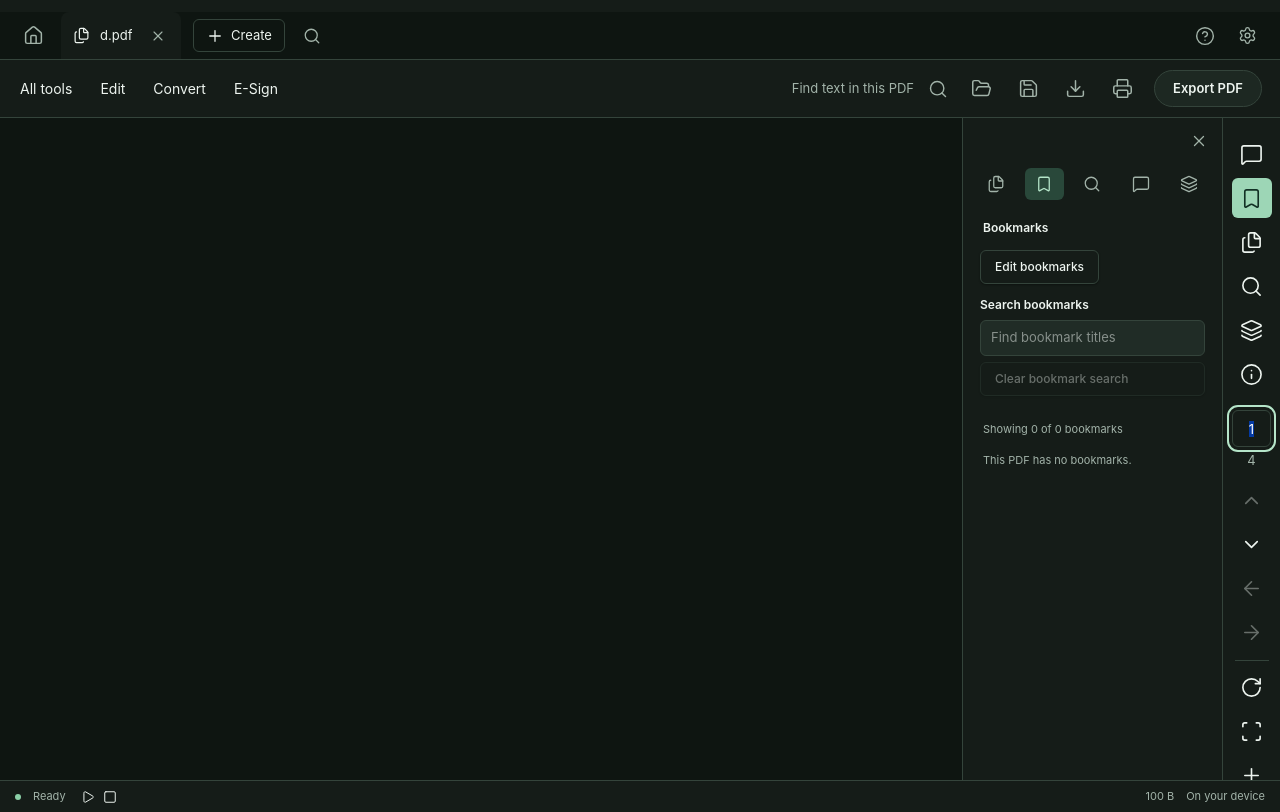
App keyboard and menus › offers the Layers panel only for documents with layers
This screenshot has width=1280, height=812.
Click the button named "Show layers" at (1252, 330), box [1232,310,1272,350]
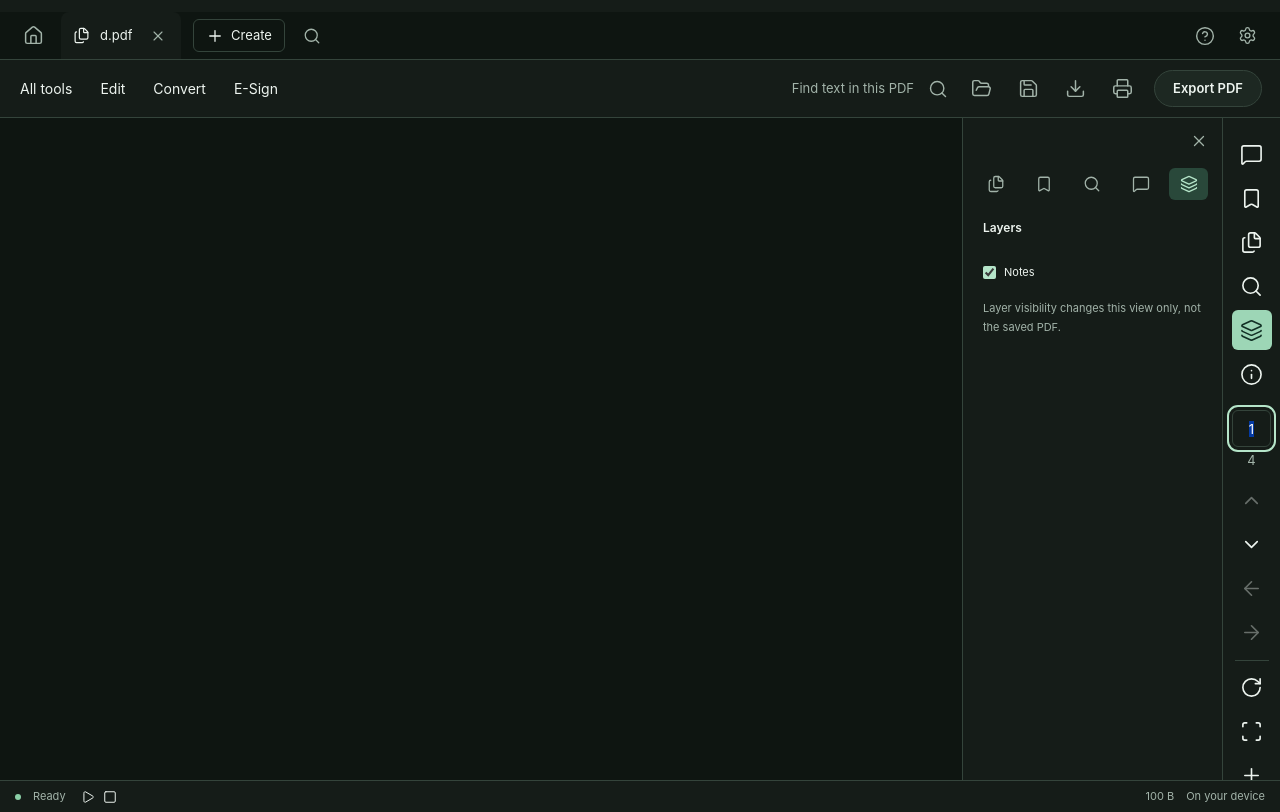
Expected: the checkbox labelled "Notes" is shown, [983,266,996,279]
Expected: the text "Layer visibility changes this view only, not the saved PDF." is shown, [983,298,1202,338]
